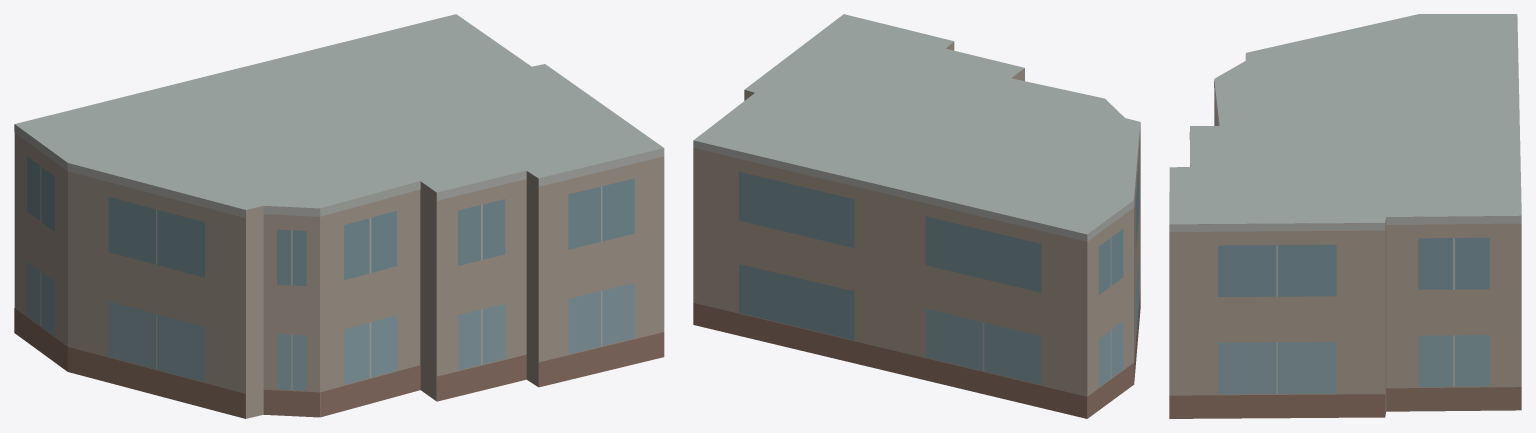
Rendered from survey-upis-32977553.glb.
3 views of the same model, side by side, from view 1: azimuth 30°, elevation 25°; view 2: azimuth 150°, elevation 25°; view 3: azimuth 270°, elevation 25° (orthographic). The views are drawn at different scales.
Visible parts, largest first — view 1: survey-upis-32977553.tmp; view 2: survey-upis-32977553.tmp; view 3: survey-upis-32977553.tmp.
Boxes of the visible parts, x1,y1,x2,y2 form: survey-upis-32977553.tmp: [14, 14, 664, 418]; survey-upis-32977553.tmp: [693, 14, 1140, 418]; survey-upis-32977553.tmp: [1169, 14, 1521, 418].
Size of the model in its own units: 14.15 by 6.1 by 10.03.
